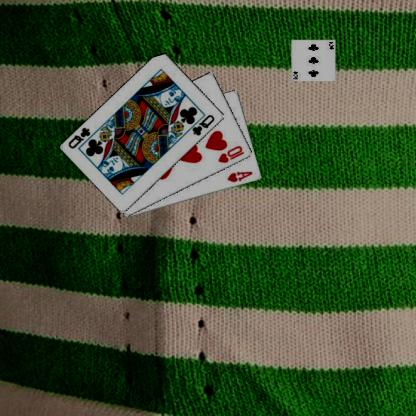10H: (218, 143, 247, 164)
AH: (226, 168, 256, 184)
QC: (68, 124, 94, 150), (192, 112, 218, 137)
